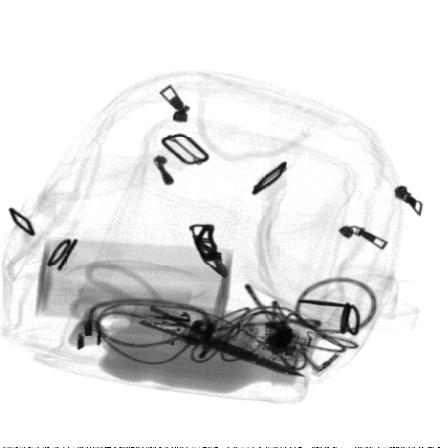Scissors: (66, 262, 303, 377)
